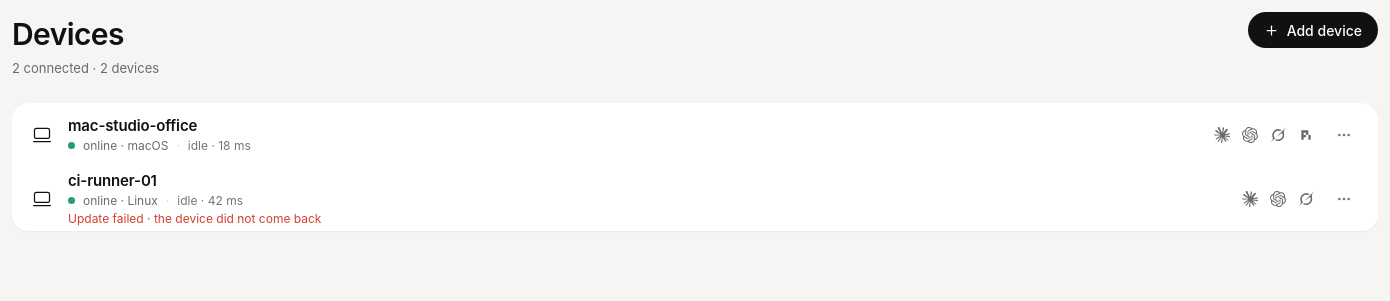
device row menu › closes on Escape
The image size is (1390, 301).
Click the button named "Open menu" in the row of "mac-studio-office" at (1344, 134), box [1330,120,1358,148]
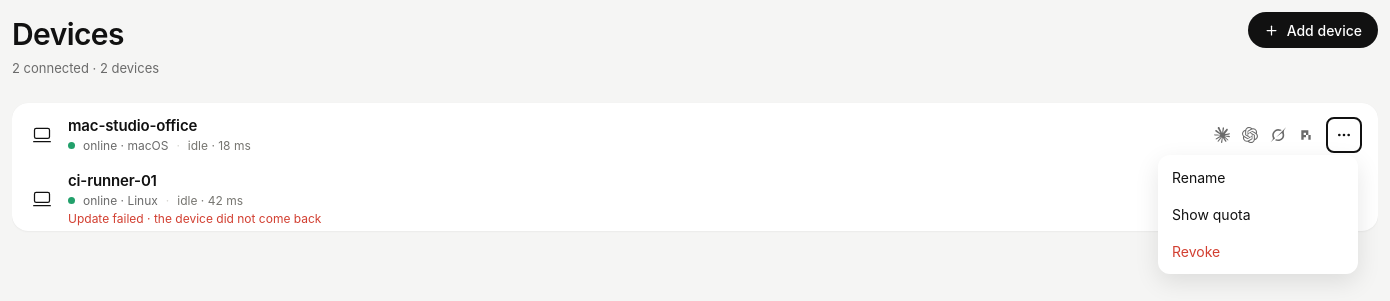
Press Escape
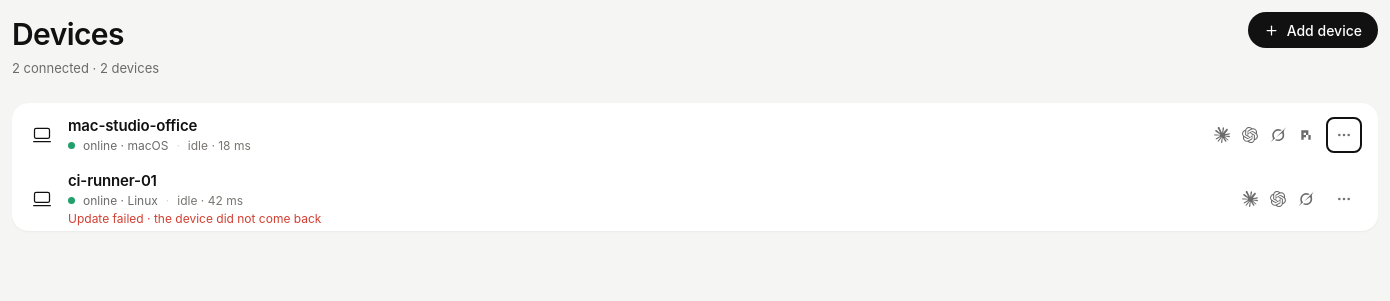
Expected: the menu is gone
